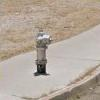Hydrant: (27, 22, 57, 86)
